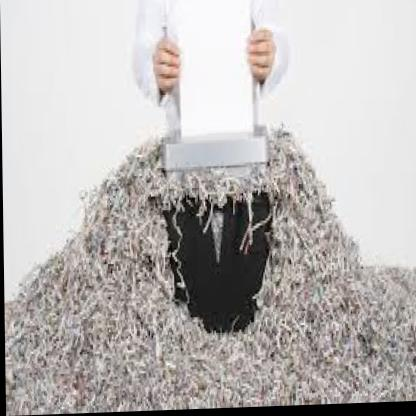Paper: (1, 61, 414, 416)
